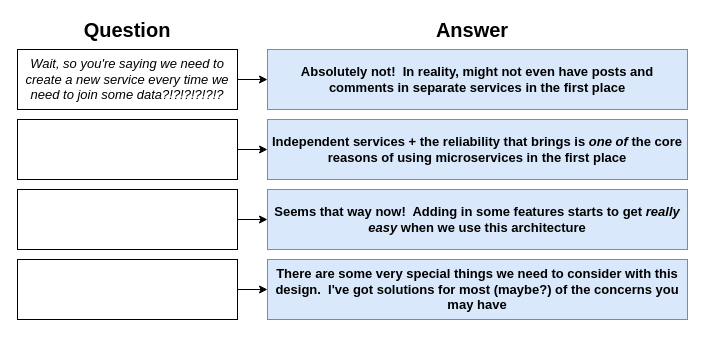
This 705x337 diagram has some shape labels left out. The shapes that lost their labels are listed below. From the top down, each one's centre as x and y in pixels, then its label:
(127,149): Who cares that each service is independent?
(127,219): This is so over the top complicated for little benefit
(127,289): This system won't correctly in the following scenario....
